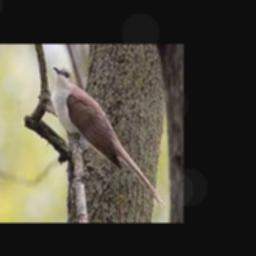Cuckoo: (53, 66, 166, 210)
